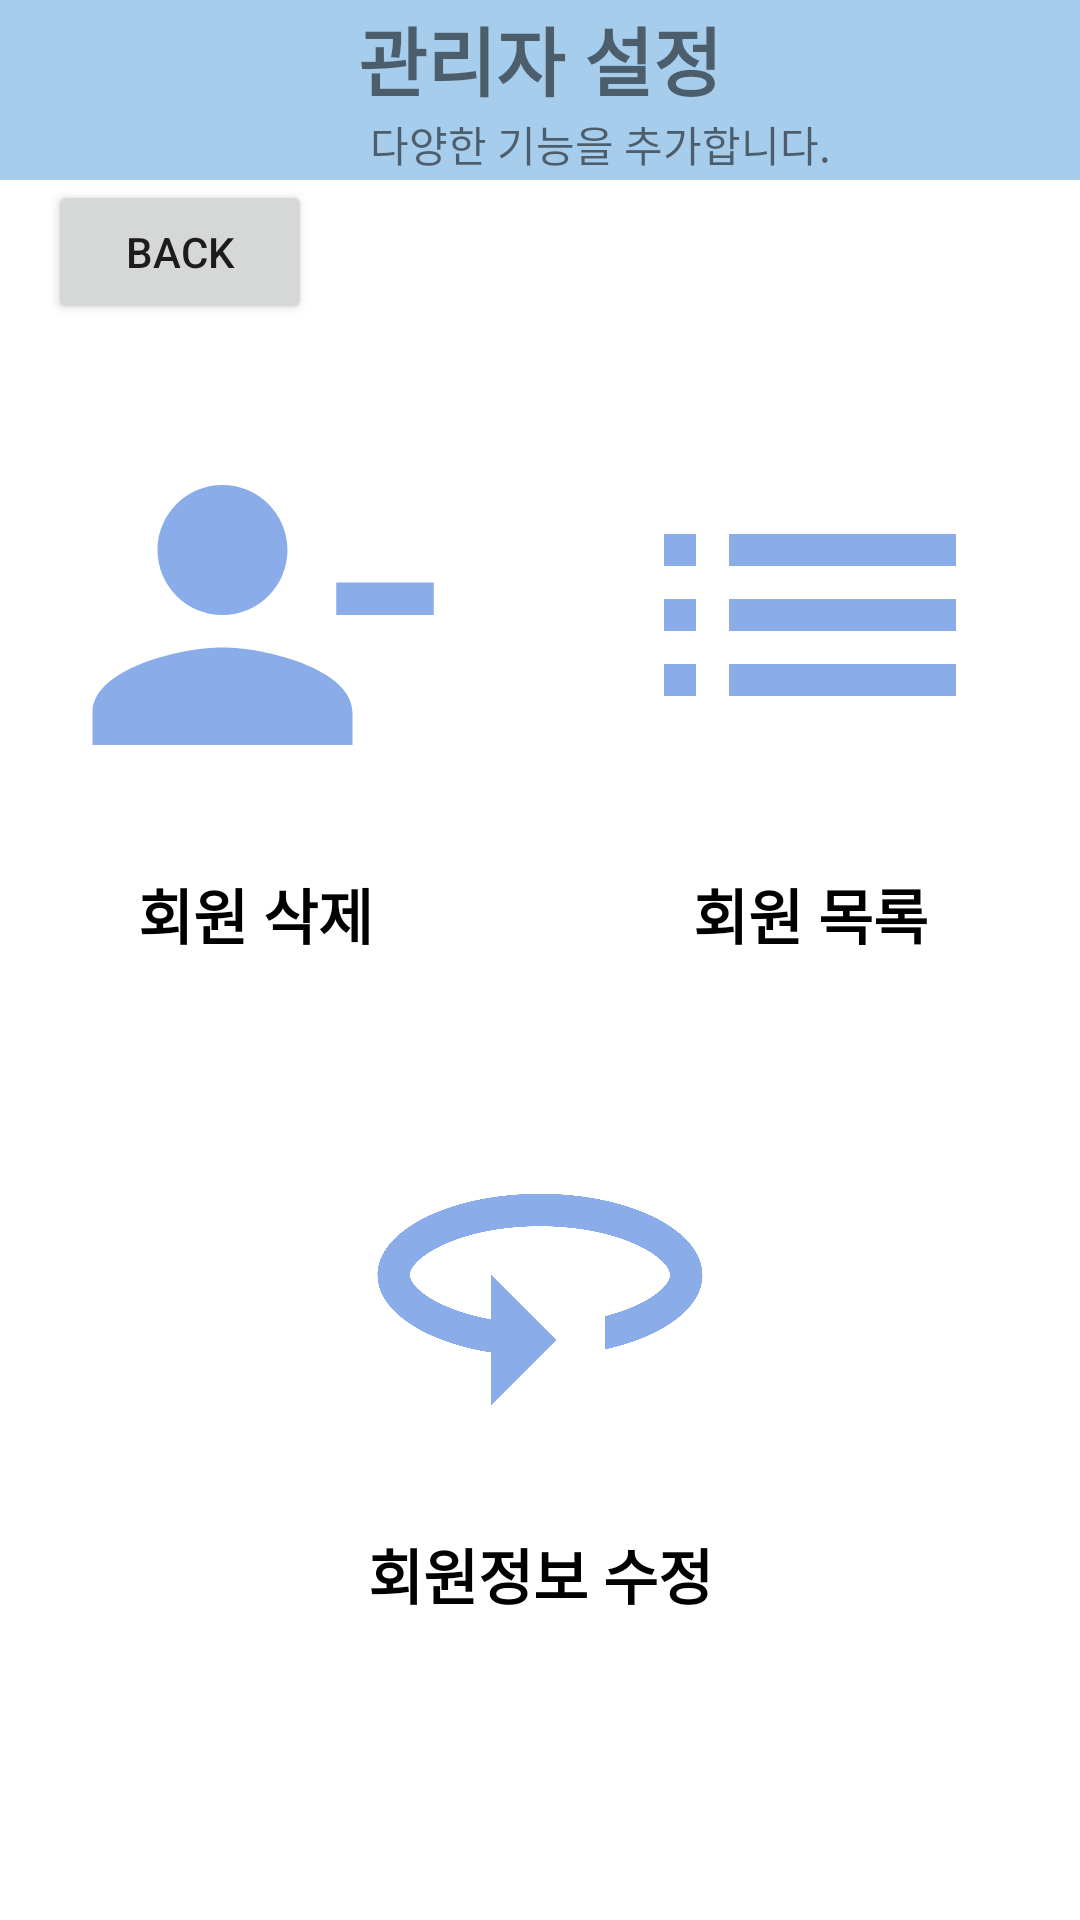

Icons on this 1080px x 1920px Android screen, each with its box as [x1=x1, y1=y1, x2=x2, y2=y2]:
list: [x1=664, y1=534, x2=956, y2=696]
